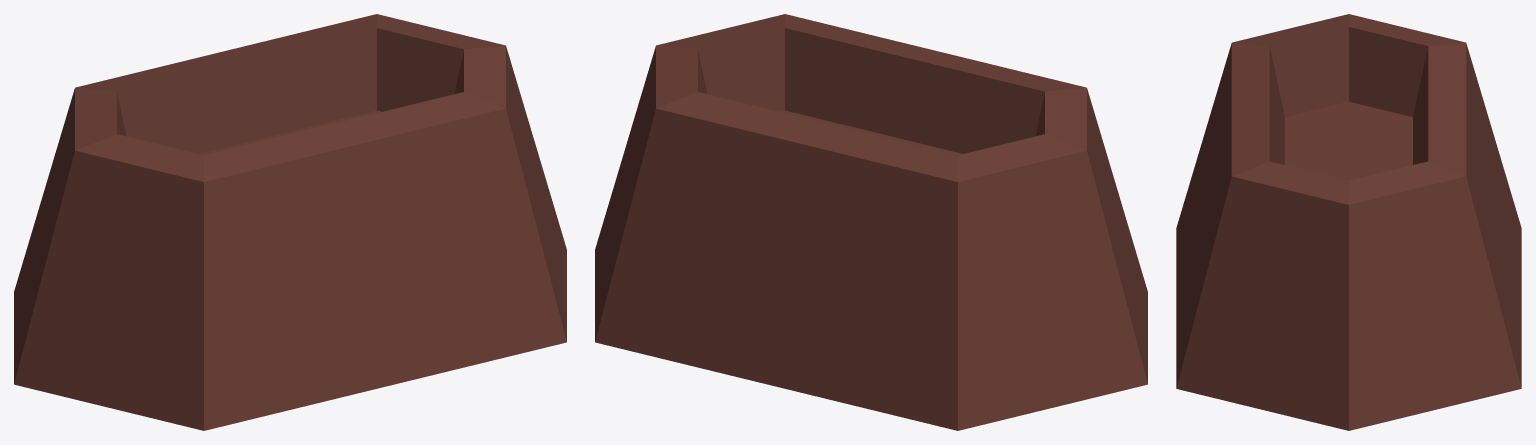
File: drySmall_craterB.FBX
3 renders of one model, left to right at view 1: azimuth 30°, elevation 25°; view 2: azimuth 150°, elevation 25°; view 3: azimuth 270°, elevation 25°, orthographic. The views are drawn at different scales.
Visible parts, largest first — view 1: drySmall_craterB; view 2: drySmall_craterB; view 3: drySmall_craterB.
Part boxes in pixels (x1,y1,x2,y2): drySmall_craterB: [14, 14, 566, 430]; drySmall_craterB: [595, 14, 1147, 430]; drySmall_craterB: [1176, 14, 1521, 430].
Bounding box in the file's own units: 292 × 114 × 174.
